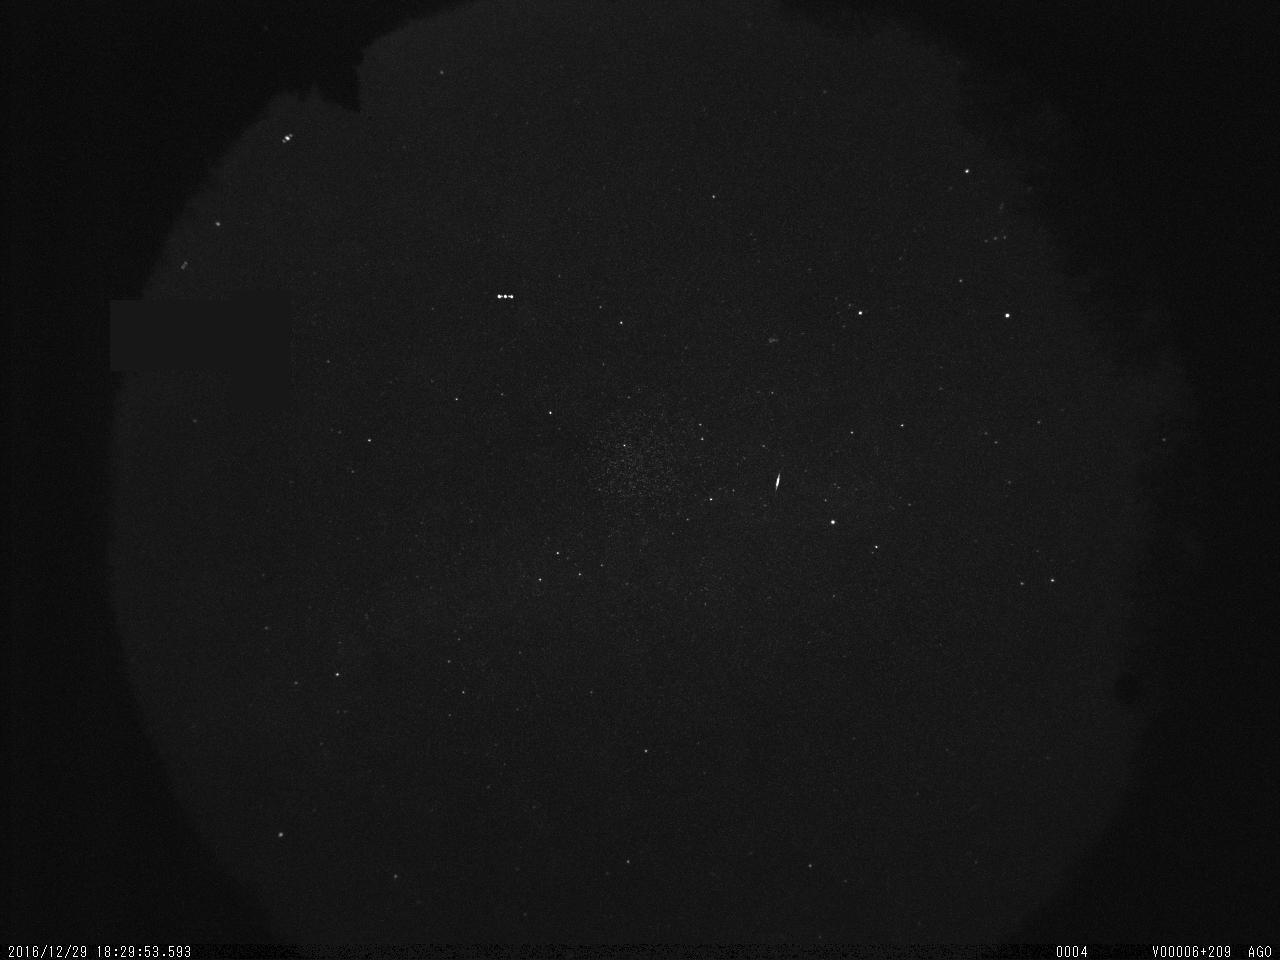meteor: (769, 464, 787, 495)
satelite: (489, 283, 523, 308)
